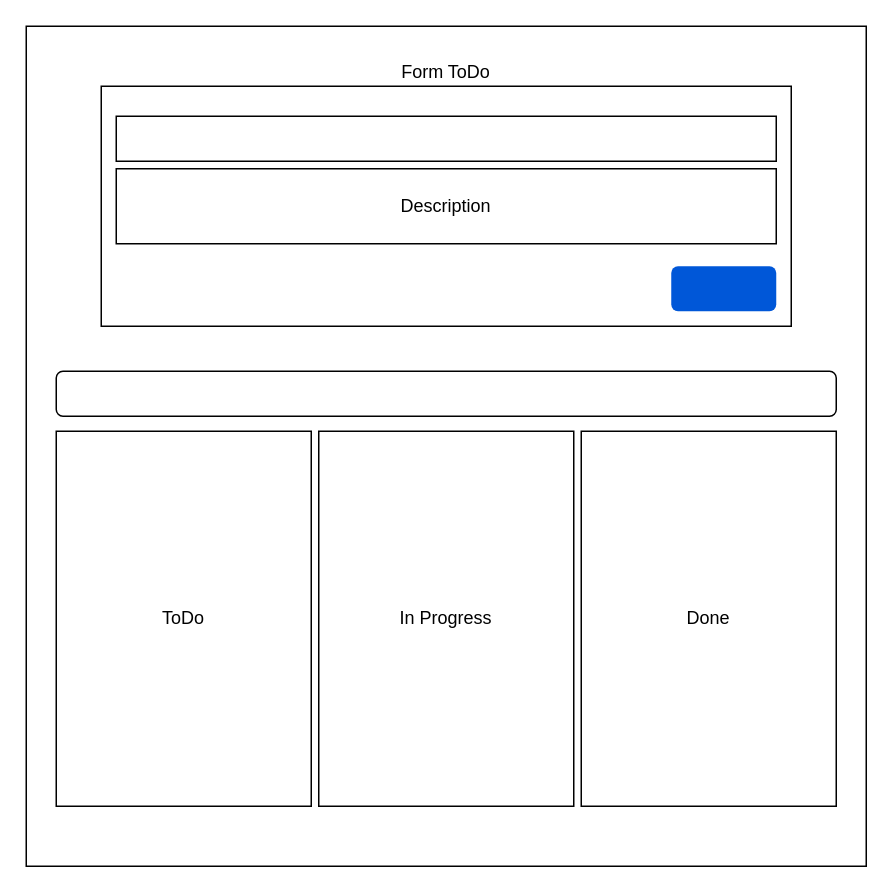
The diagram is 893 pixels wide and 893 high, and some of its shapes have lost their labels. Each missing label, with the centre of its shape:
Search todo: point (445, 393)
Submit: point (723, 288)
ToDo name: point (445, 138)
